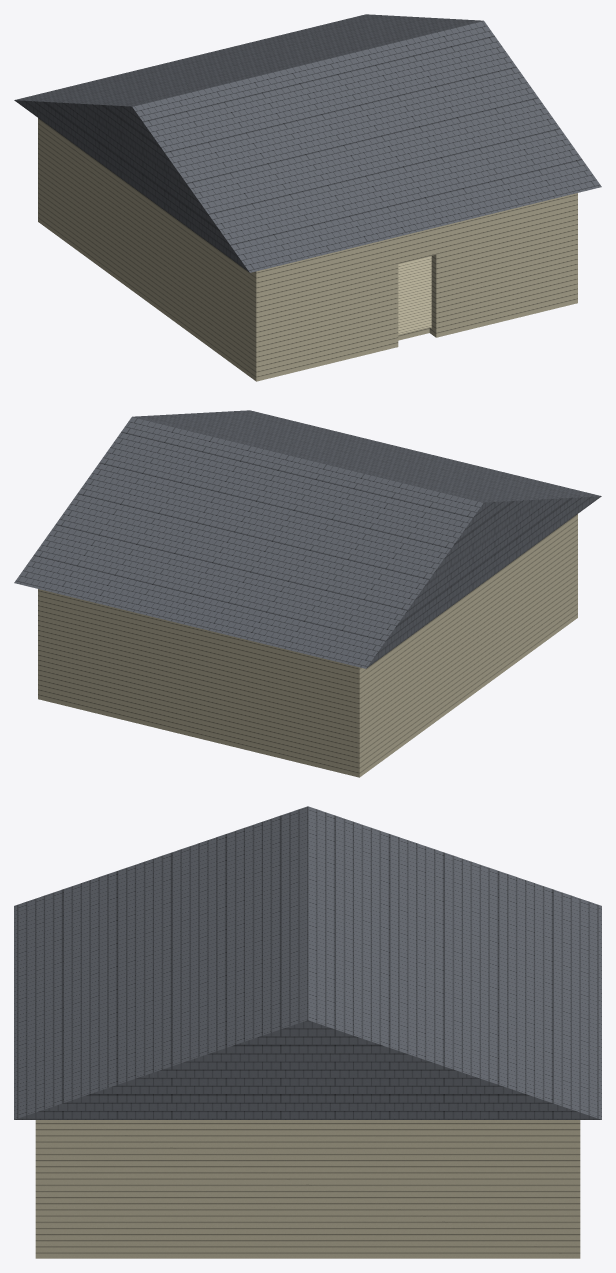
File: corn_crib.glb
3 views of the same model, one above another, from view 1: azimuth 30°, elevation 25°; view 2: azimuth 150°, elevation 25°; view 3: azimuth 270°, elevation 25° (orthographic). The views are drawn at different scales.
Visible parts, largest first — view 1: corn_crib-col; view 2: corn_crib-col; view 3: corn_crib-col.
Boxes of the visible parts, bbox=[...] form: corn_crib-col: bbox=[14, 14, 601, 381]; corn_crib-col: bbox=[14, 410, 601, 777]; corn_crib-col: bbox=[14, 806, 601, 1258].
Size of the model in its own units: 9.3 by 5.02 by 10.8.
Materials: 2 (2 with a texture image).
